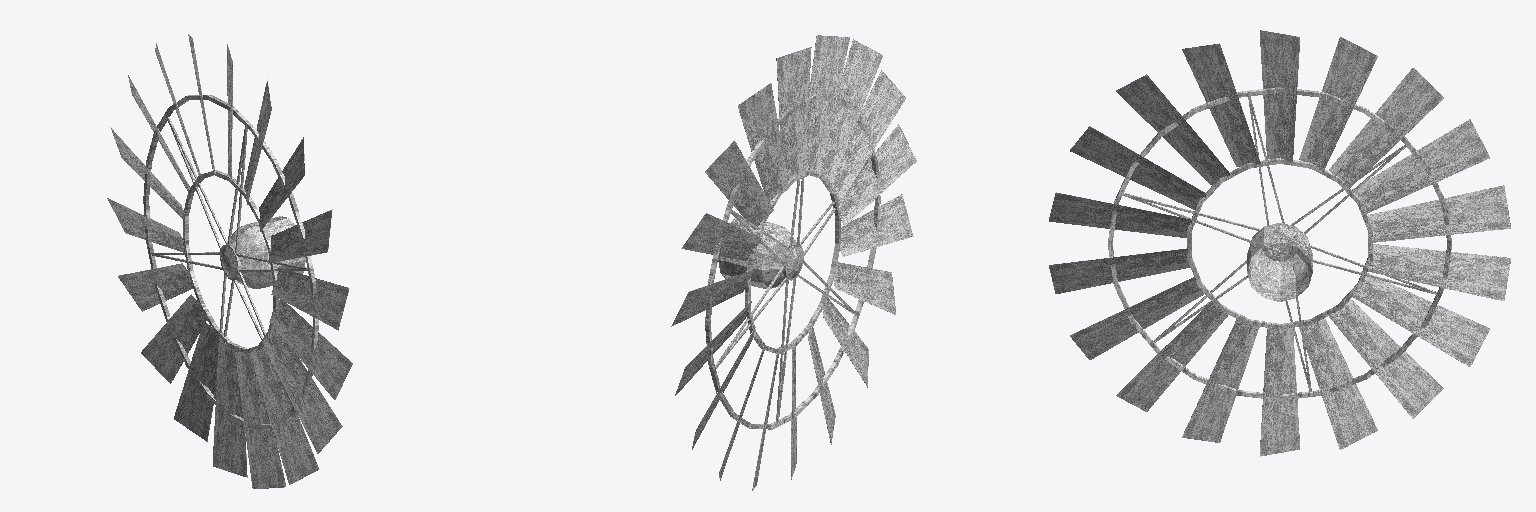
3 renders of one model, left to right at view 1: azimuth 30°, elevation 25°; view 2: azimuth 150°, elevation 25°; view 3: azimuth 270°, elevation 25°, orthographic.
Visible parts, largest first — view 1: Object001; view 2: Object001; view 3: Object001.
Boxes of the visible parts, x1,y1,x2,y2 form: Object001: [107, 34, 352, 488]; Object001: [671, 35, 916, 490]; Object001: [1049, 30, 1510, 456].
Bounding box in the file's own units: 0.55 × 3.3 × 3.3.
Materials: 1 (1 with a texture image).